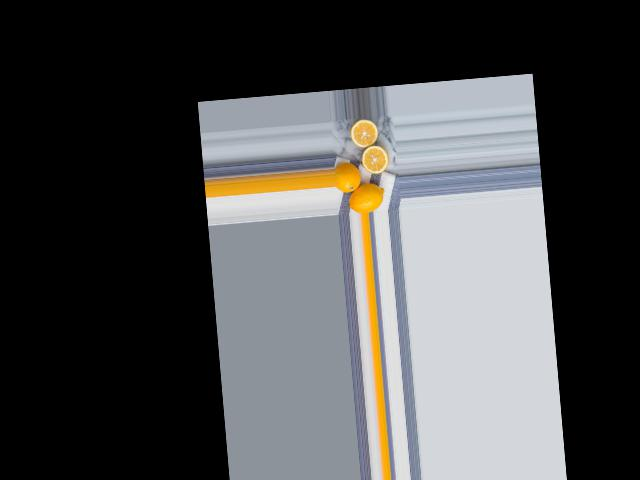lemon: (333, 164, 361, 193)
